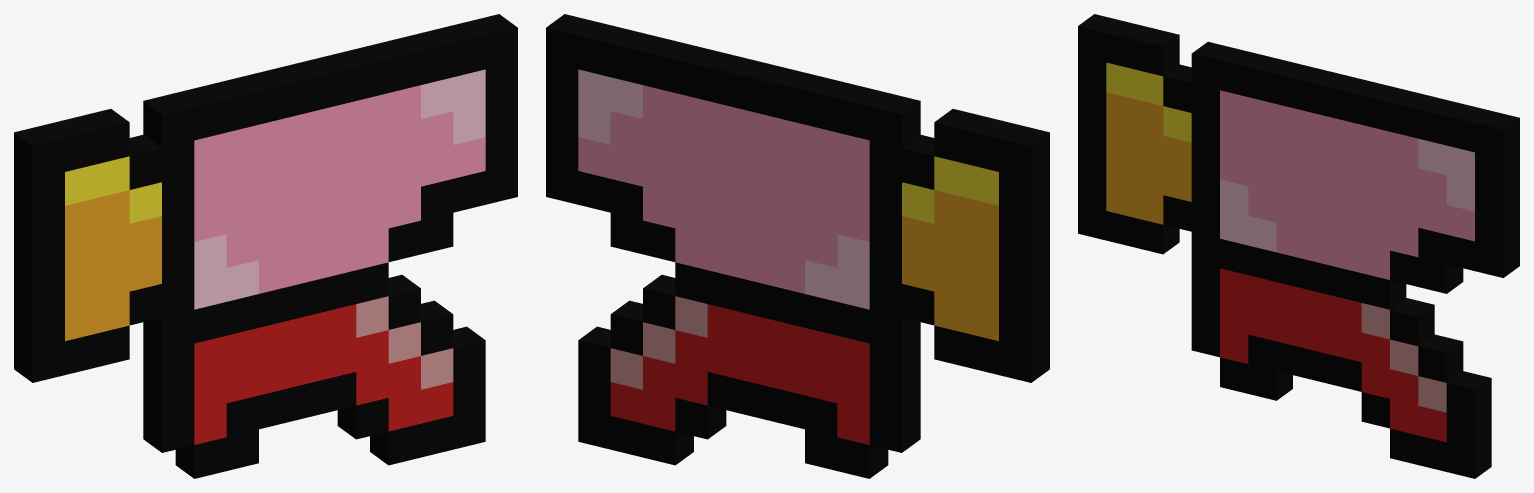
The model's file is Pink Heavy Paintball Gun.glb.
3 views of the same model, side by side, from view 1: azimuth 30°, elevation 25°; view 2: azimuth 150°, elevation 25°; view 3: azimuth 330°, elevation 25° (orthographic). The views are drawn at different scales.
Parts seen in each view (by area): view 1: generated(Clone); view 2: generated(Clone); view 3: generated(Clone).
Boxes of the visible parts, x1=… form: generated(Clone): x1=14, y1=14, x2=517, y2=478; generated(Clone): x1=546, y1=14, x2=1049, y2=478; generated(Clone): x1=1078, y1=14, x2=1519, y2=478.
Bounding box in the file's own units: 15 × 12 × 0.9998.
1 material, 1 textured.
